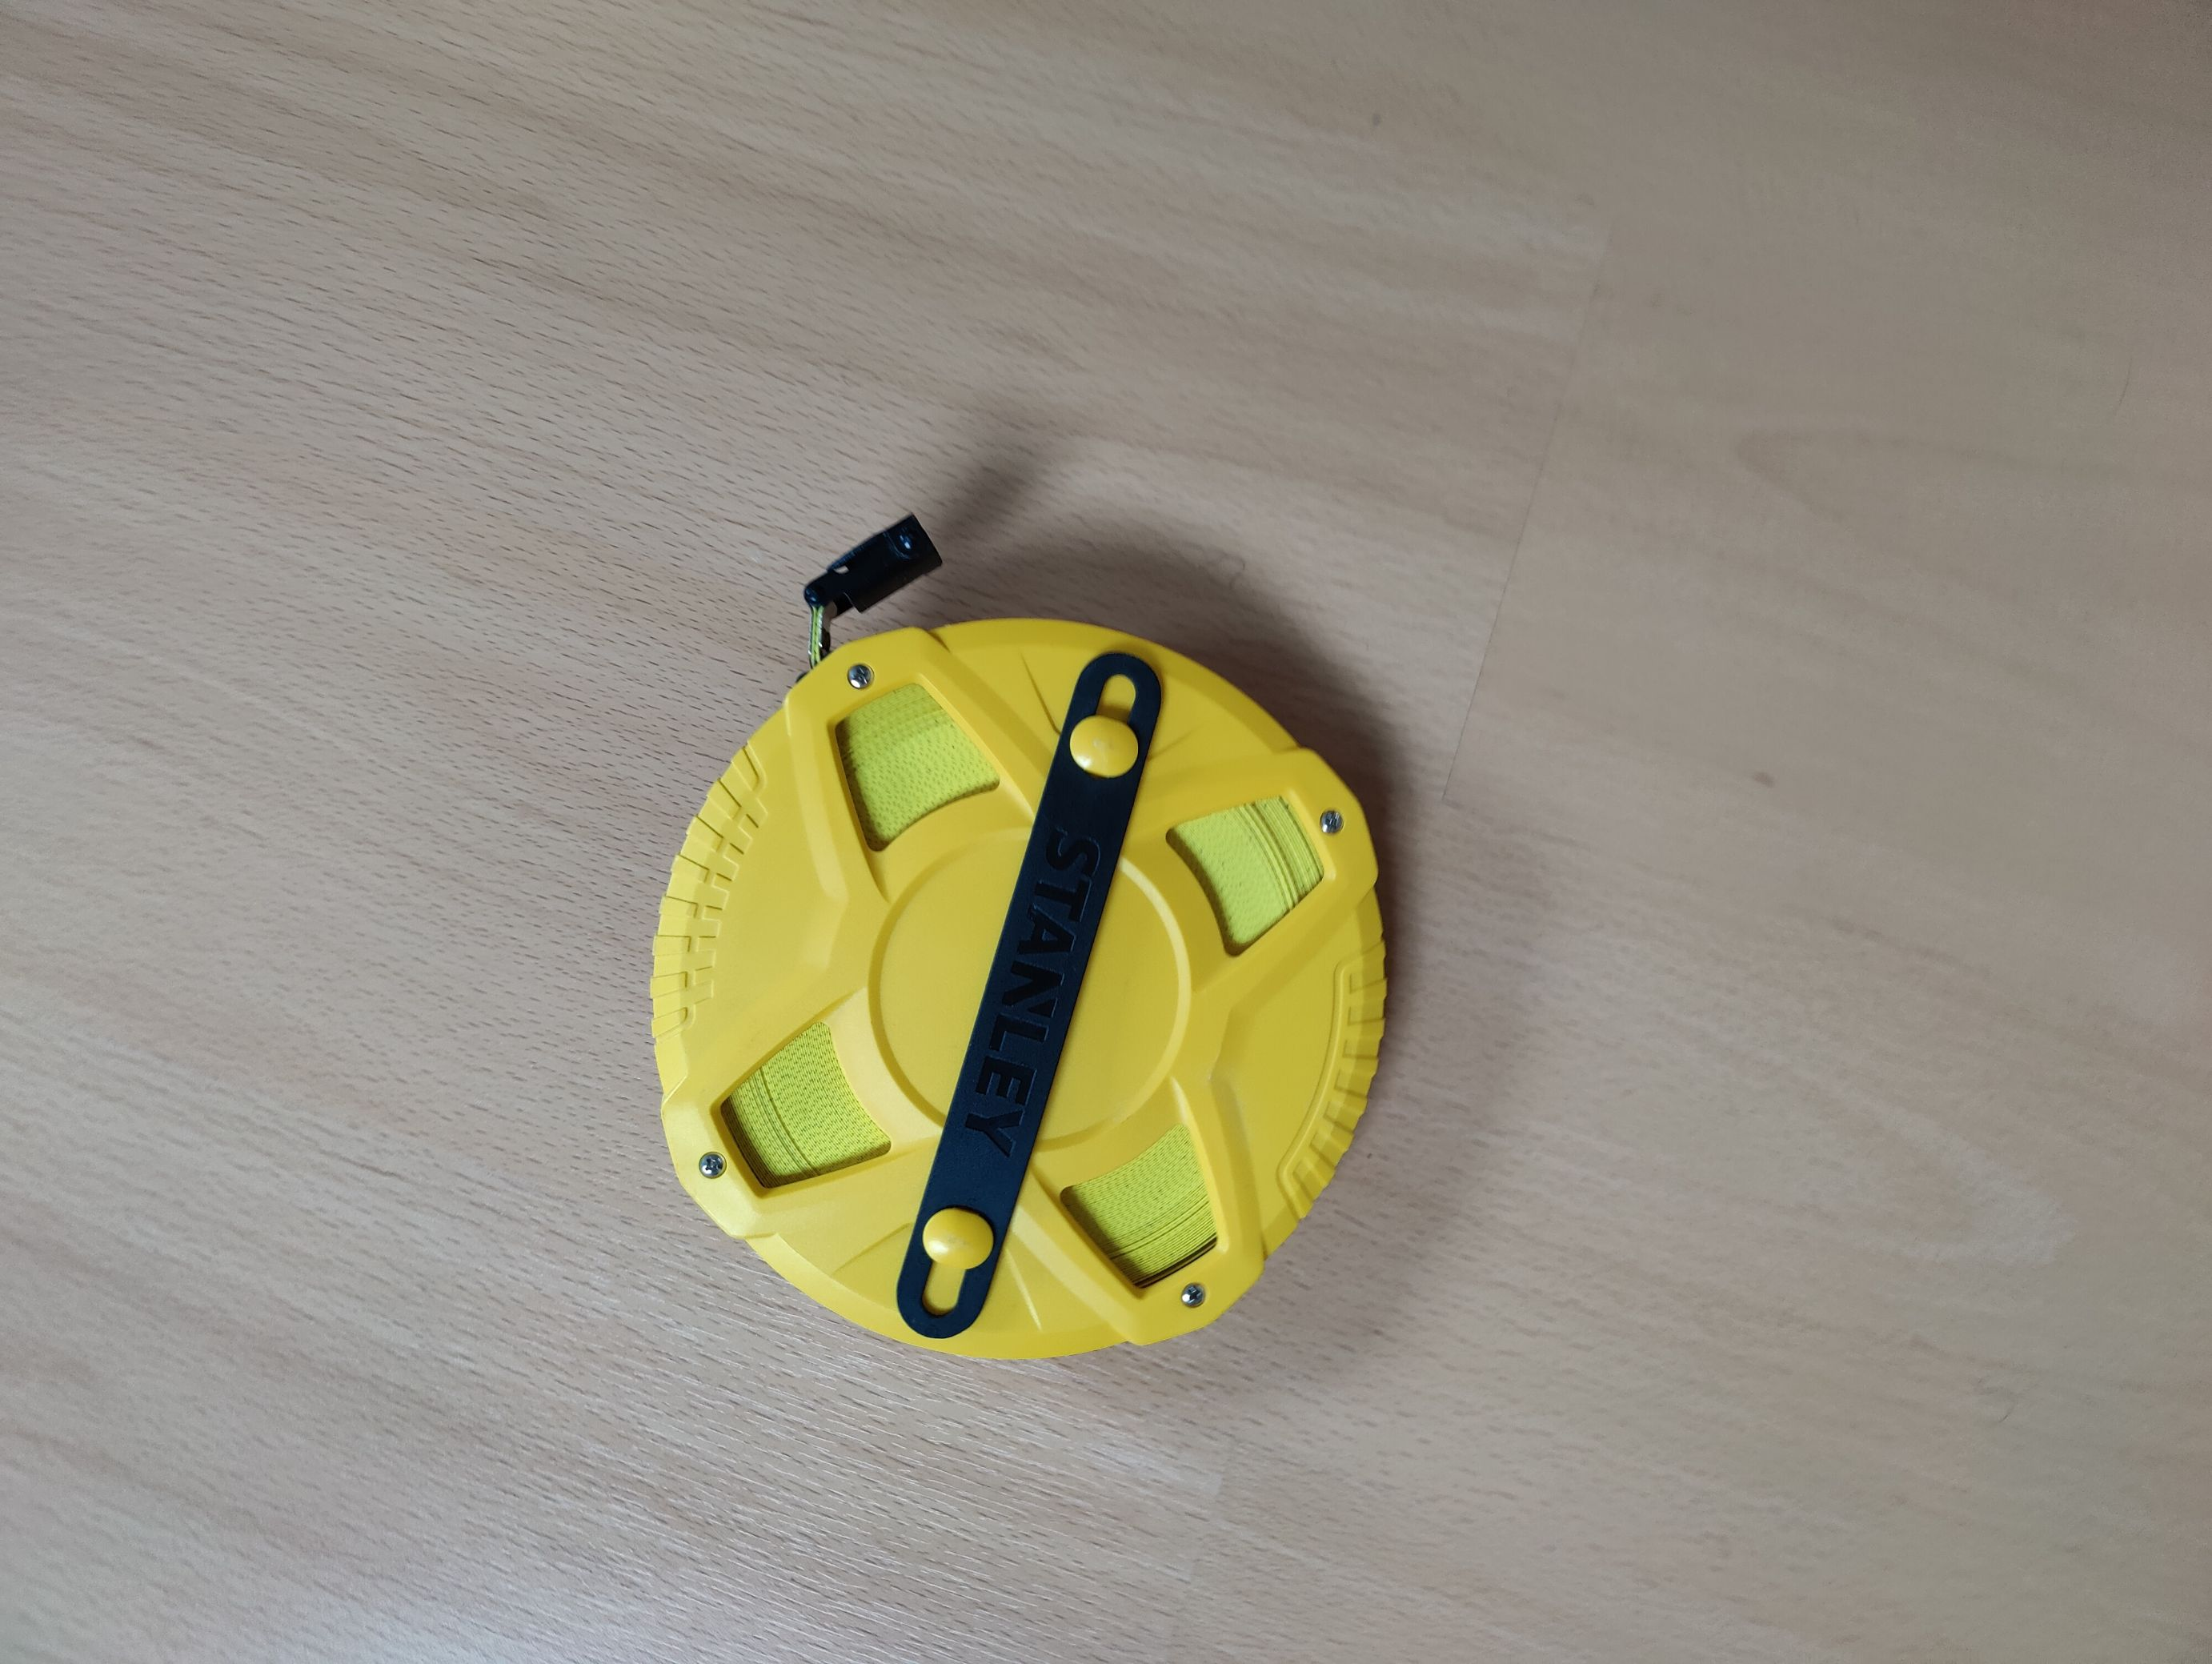tapemeasure: (652, 507, 1400, 1369)
